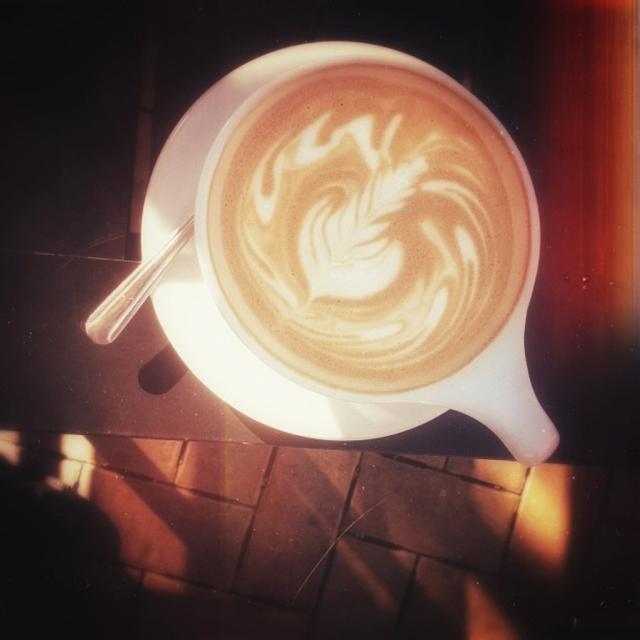latte: (197, 49, 537, 398)
